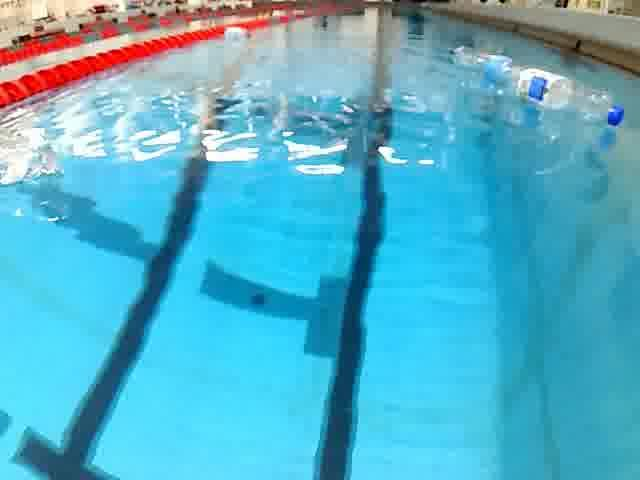Bottle: (507, 65, 627, 128), (445, 38, 531, 87), (220, 24, 253, 40)
